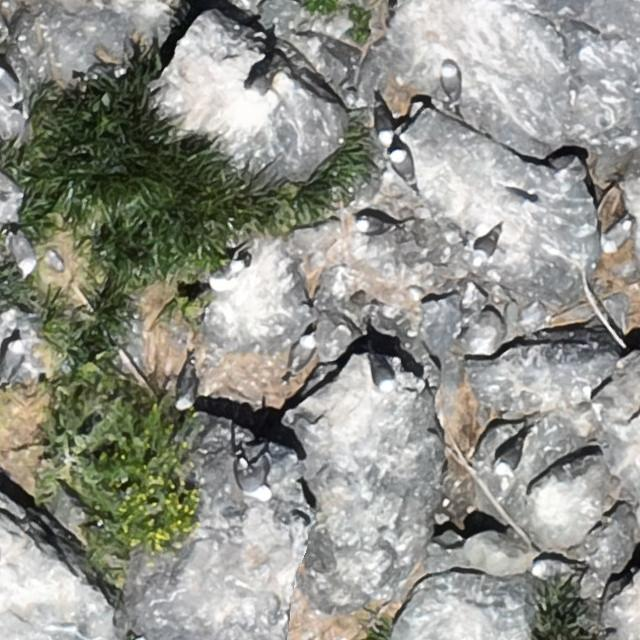umineko: (244, 62, 286, 104), (238, 454, 274, 502), (207, 253, 244, 290), (368, 345, 397, 392), (604, 218, 638, 253), (2, 339, 24, 387), (473, 231, 498, 269), (376, 97, 395, 147), (15, 239, 37, 276), (391, 149, 413, 181), (293, 335, 314, 368), (532, 558, 566, 578), (441, 66, 459, 102), (178, 372, 196, 408), (0, 69, 18, 103), (499, 443, 522, 469), (357, 218, 390, 236)
